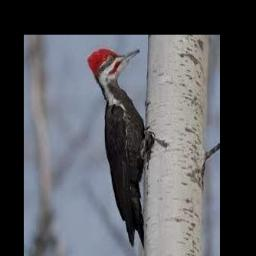Woodpecker: (87, 49, 152, 250)
